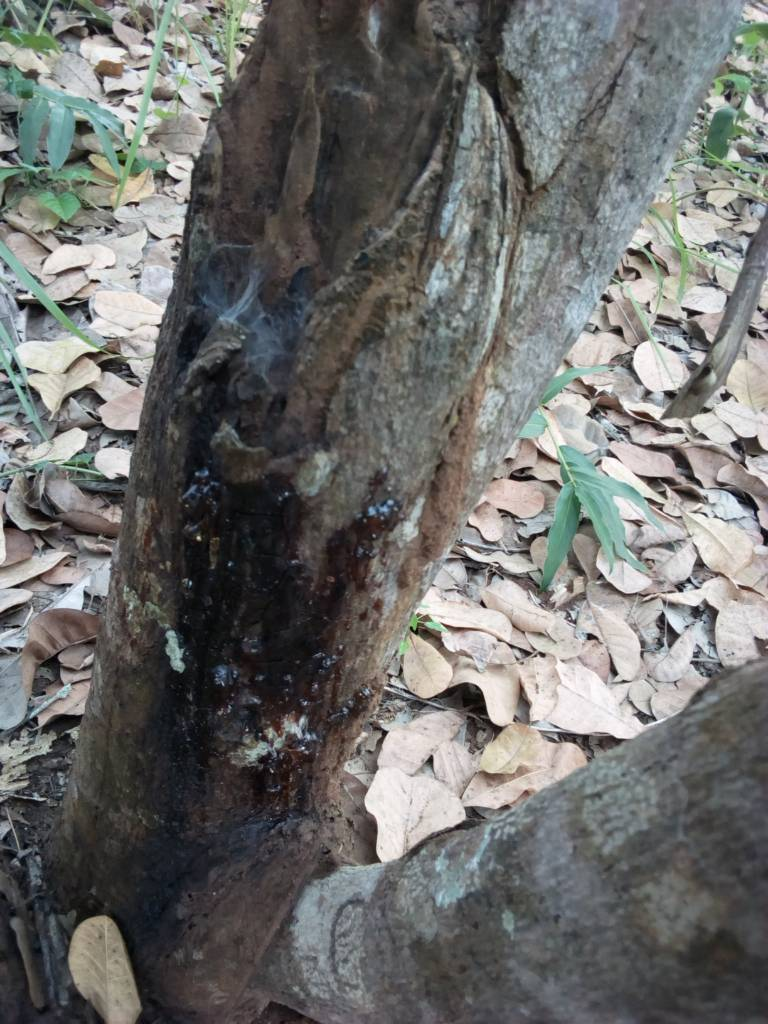Gommose: (158, 453, 386, 861)
